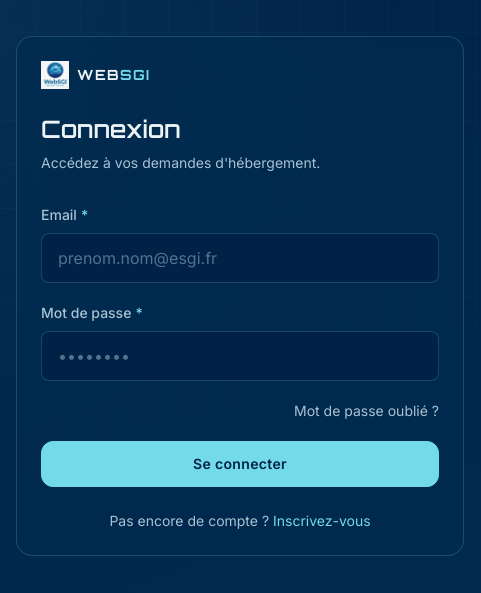
it: Login › should display a default message when the error has no message
In the field labelled "Email*": (240, 258) [41, 233, 439, 283], type "alice@example.com"
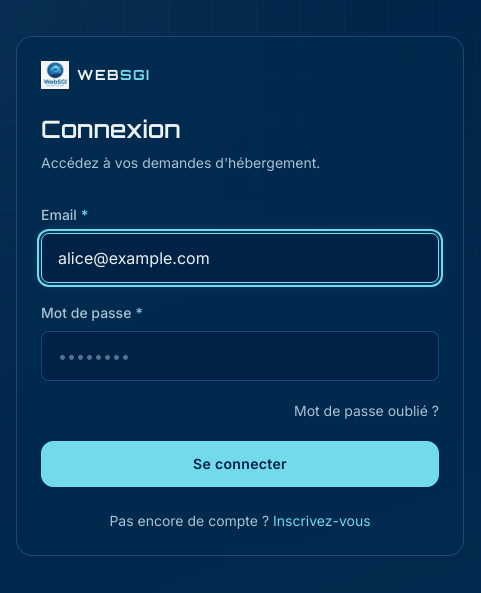
In the password field labelled "Mot de passe*": (240, 356) [41, 331, 439, 381], type "motdepasse123"
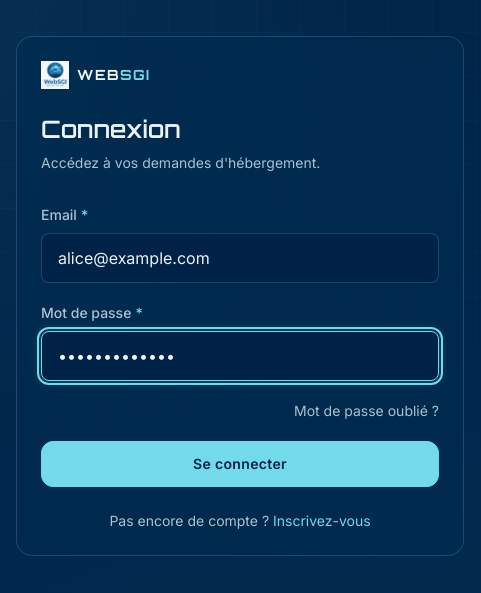
Click the button "Se connecter": (240, 464) [41, 441, 439, 487]
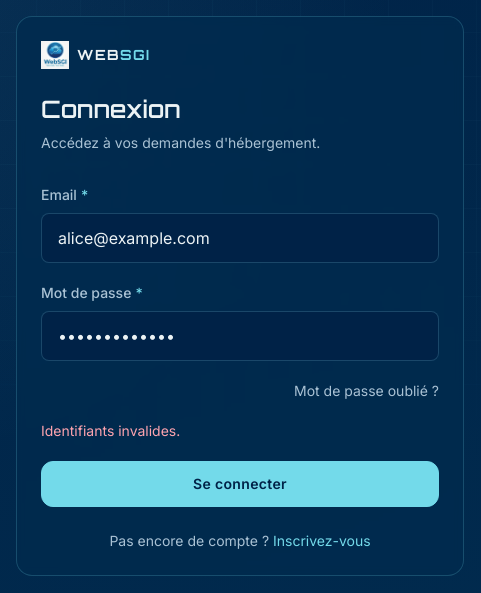
Result: the text "Identifiants invalides." is shown at [41, 422, 180, 439]
